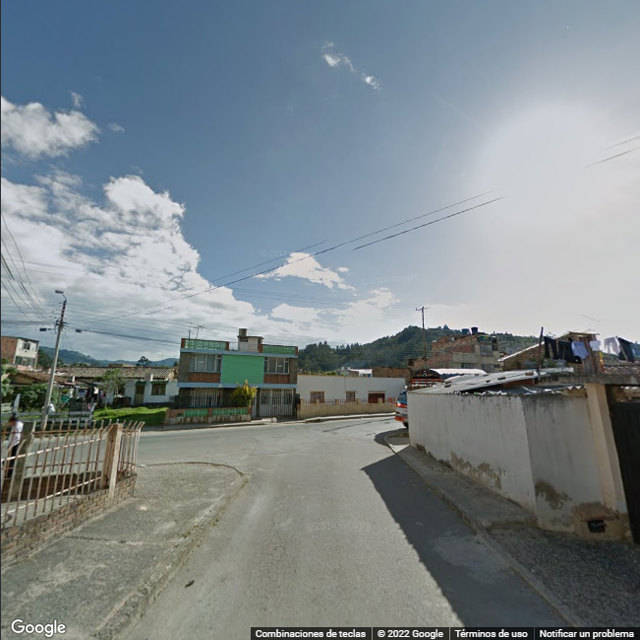D00: (271, 493, 286, 534)
D20: (246, 531, 297, 592)
